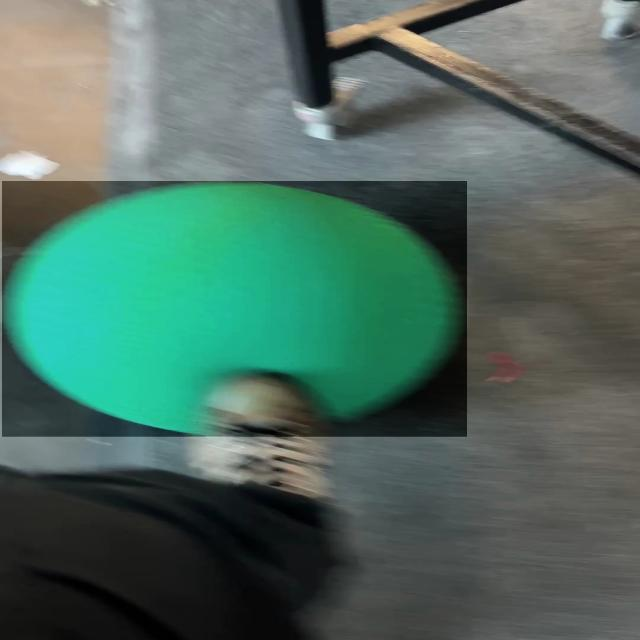Algae: (2, 182, 467, 438)
